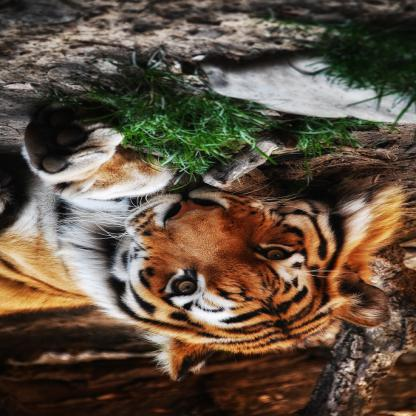tiger: (100, 155, 374, 366)
